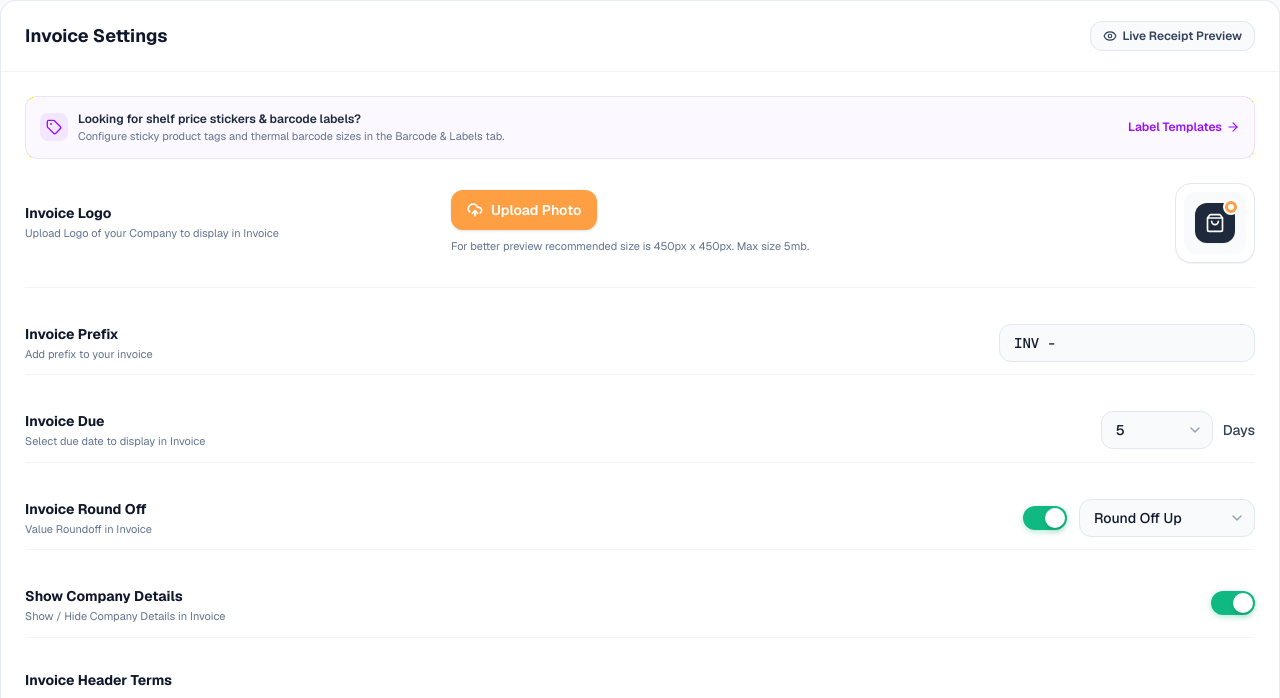
Scenario: InvoiceSettingsView Component › reverts unsaved changes when Cancel is clicked
Step 1. Type "TEMP-" into the field named "Invoice Prefix" → (1127, 343), box x1=999 y1=324 x2=1255 y2=362
(page scrolled)
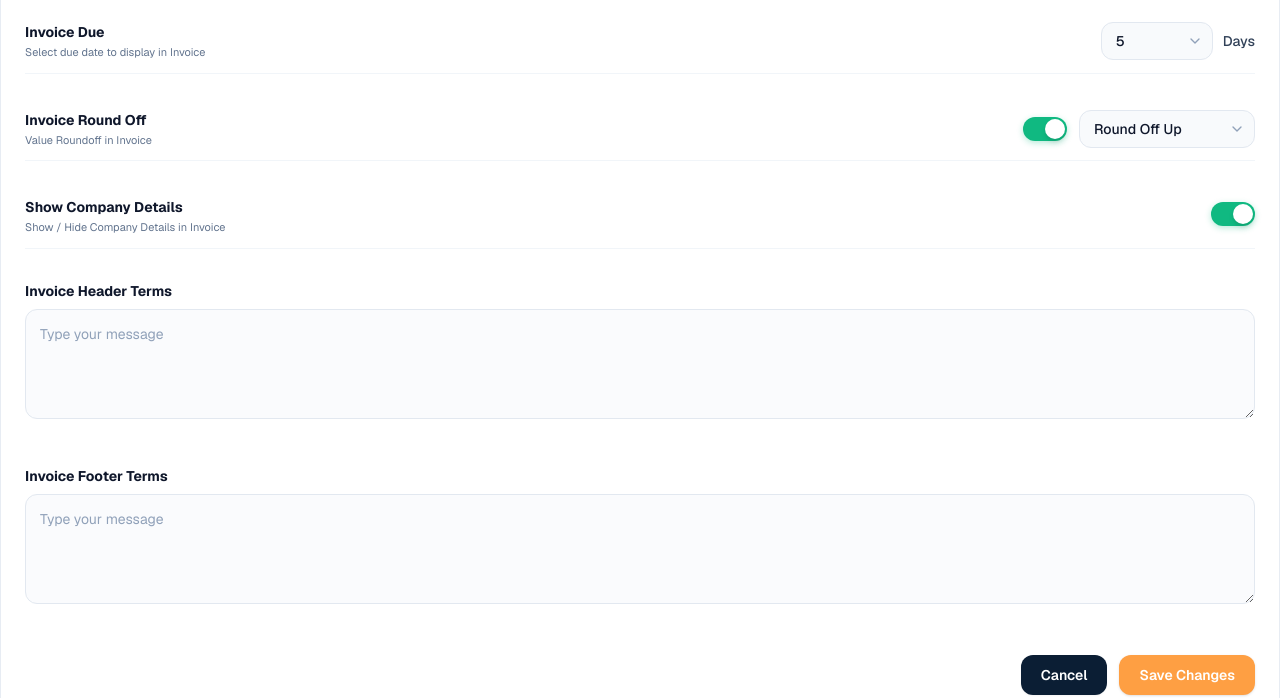
Step 2. Click the button "Cancel" → (1064, 675), box x1=1021 y1=655 x2=1108 y2=695
(page scrolled)
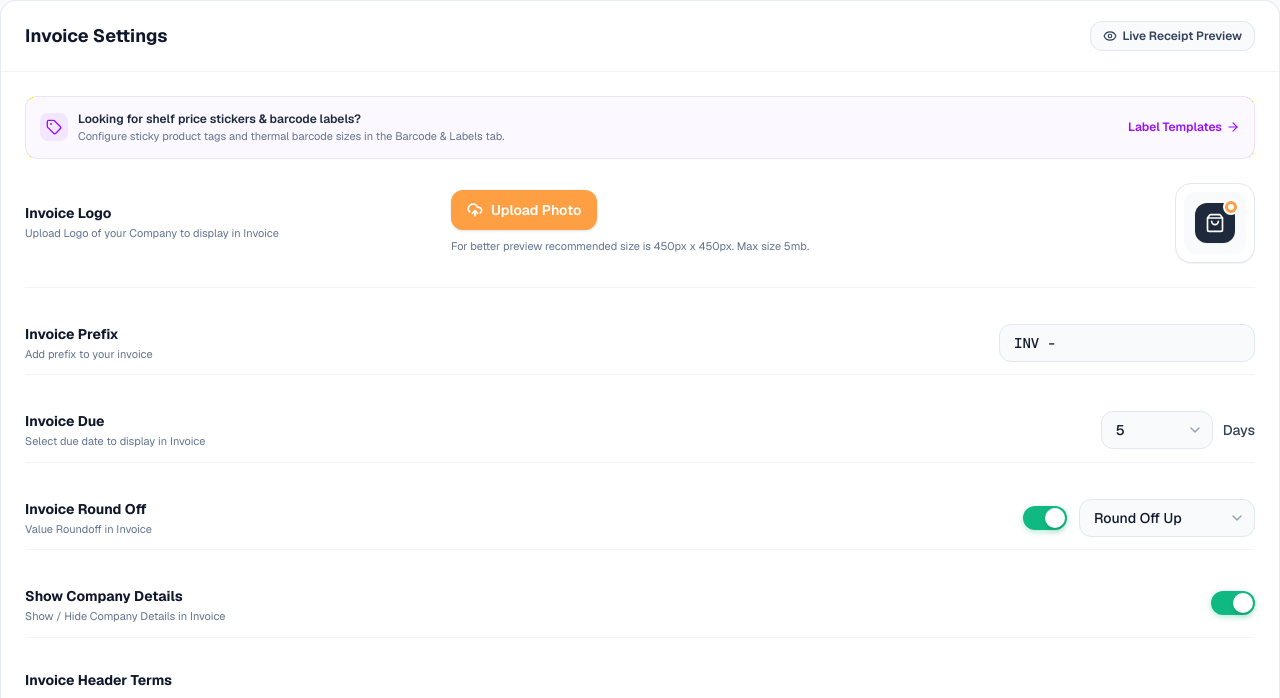
Expected: the field named "Invoice Prefix" holds "INV - ", x1=999 y1=324 x2=1255 y2=362
